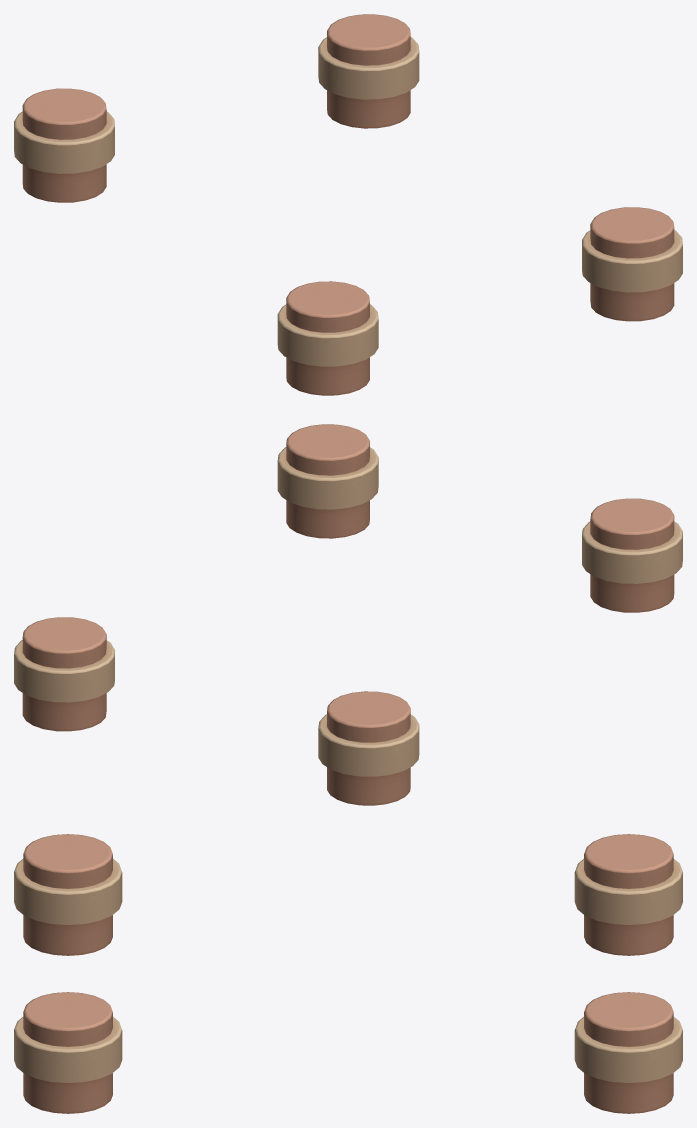
File: Props.fbx
3 views of the same model, one above another, from view 1: azimuth 30°, elevation 25°; view 2: azimuth 150°, elevation 25°; view 3: azimuth 270°, elevation 25° (orthographic). The views are drawn at different scales.
Visible parts, largest first — view 1: Cylinder-3, Cylinder-3 (3), Cylinder-3 (2), Cylinder-3 (1); view 2: Cylinder-3 (1), Cylinder-3 (2), Cylinder-3, Cylinder-3 (3); view 3: Cylinder-3 (1), Cylinder-3 (3), Cylinder-3, Cylinder-3 (2).
Boxes of the visible parts, <box> form: Cylinder-3: <box>277,281,378,395</box>; Cylinder-3 (3): <box>318,14,419,128</box>; Cylinder-3 (2): <box>14,88,114,202</box>; Cylinder-3 (1): <box>582,207,682,321</box>; Cylinder-3 (1): <box>277,424,378,538</box>; Cylinder-3 (2): <box>318,691,419,805</box>; Cylinder-3: <box>582,498,682,612</box>; Cylinder-3 (3): <box>14,617,114,731</box>; Cylinder-3 (1): <box>14,992,122,1113</box>; Cylinder-3 (3): <box>574,992,682,1113</box>; Cylinder-3: <box>14,834,122,955</box>; Cylinder-3 (2): <box>574,834,682,955</box>.
Size of the model in its own units: 25.79 by 5 by 35.79.
Materials: 1 (1 with a texture image).
